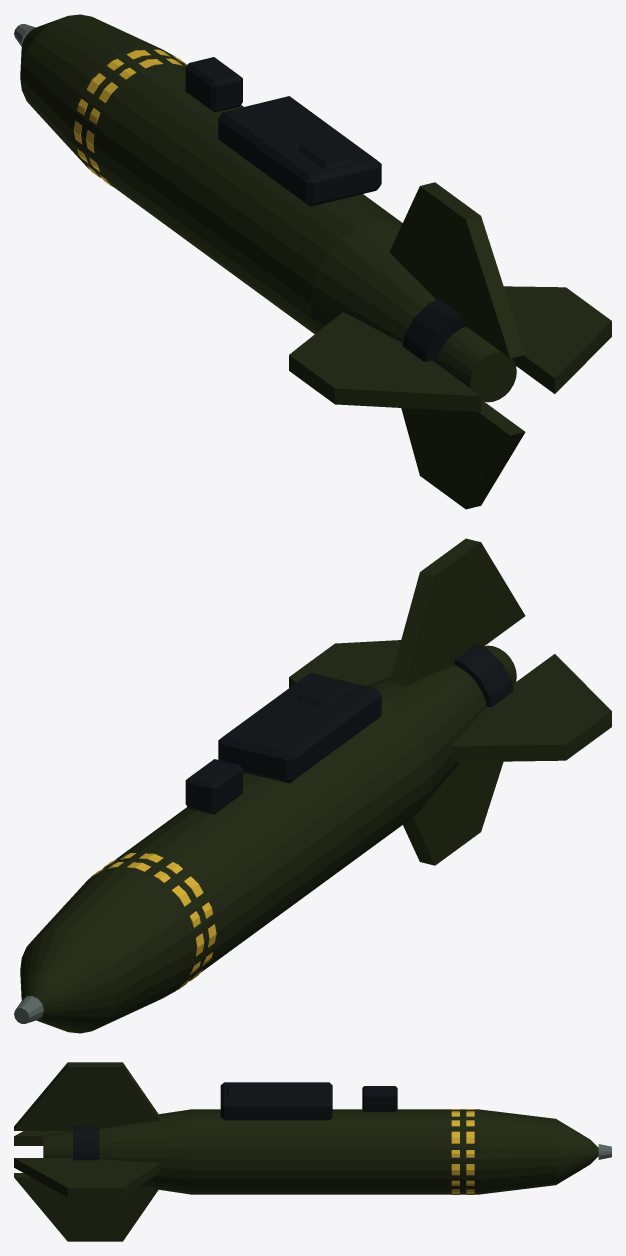
Rendered from BombLight.obj.
3 views of the same model, one above another, from view 1: azimuth 30°, elevation 25°; view 2: azimuth 150°, elevation 25°; view 3: azimuth 270°, elevation 25° (orthographic). The views are drawn at different scales.
Parts seen in each view (by area): view 1: Bomb_forged_casing, Tail_stabilizer.001, Tail_stabilizer.002, Mount_lug, Tail_stabilizer.003, Tail_stabilizer, Suspension_lug.001, Tail_collar, Suspension_lug, Identification_band, Identification_band.001; view 2: Bomb_forged_casing, Tail_stabilizer.001, Tail_stabilizer.002, Mount_lug, Tail_stabilizer.003, Tail_stabilizer, Suspension_lug.001, Tail_collar, Suspension_lug, Identification_band, Identification_band.001; view 3: Bomb_forged_casing, Tail_stabilizer.001, Tail_stabilizer.003, Tail_stabilizer, Mount_lug, Tail_collar, Suspension_lug.001, Identification_band, Identification_band.001, Tail_stabilizer.002, Suspension_lug.
Part boxes in pixels (x1,y1,x2,y2): Bomb_forged_casing: (20, 14, 516, 402); Tail_stabilizer.001: (389, 182, 525, 358); Tail_stabilizer.002: (289, 312, 480, 412); Mount_lug: (218, 96, 381, 206); Tail_stabilizer.003: (401, 401, 525, 509); Tail_stabilizer: (504, 286, 611, 393); Suspension_lug.001: (185, 57, 242, 112); Tail_collar: (402, 298, 466, 363); Suspension_lug: (298, 139, 355, 169); Identification_band: (73, 49, 186, 177); Identification_band.001: (85, 58, 186, 186); Bomb_forged_casing: (20, 645, 516, 1033); Tail_stabilizer.001: (389, 538, 525, 686); Tail_stabilizer.002: (450, 654, 611, 762); Mount_lug: (218, 673, 381, 783); Tail_stabilizer.003: (403, 761, 503, 865); Tail_stabilizer: (289, 640, 400, 687); Suspension_lug.001: (185, 759, 242, 814); Tail_collar: (454, 644, 513, 707); Suspension_lug: (298, 676, 355, 706); Identification_band: (91, 862, 204, 989); Identification_band.001: (103, 853, 216, 980); Bomb_forged_casing: (43, 1109, 598, 1194); Tail_stabilizer.001: (14, 1062, 159, 1130); Tail_stabilizer.003: (14, 1173, 158, 1241); Tail_stabilizer: (14, 1158, 159, 1197); Mount_lug: (220, 1082, 332, 1120); Tail_collar: (73, 1126, 99, 1160); Suspension_lug.001: (362, 1086, 397, 1111); Identification_band: (466, 1109, 474, 1194); Identification_band.001: (451, 1109, 459, 1194); Tail_stabilizer.002: (14, 1131, 64, 1145); Suspension_lug: (226, 1086, 261, 1096).
Bounding box in the file's own units: 0.654 × 0.654 × 2.03.
